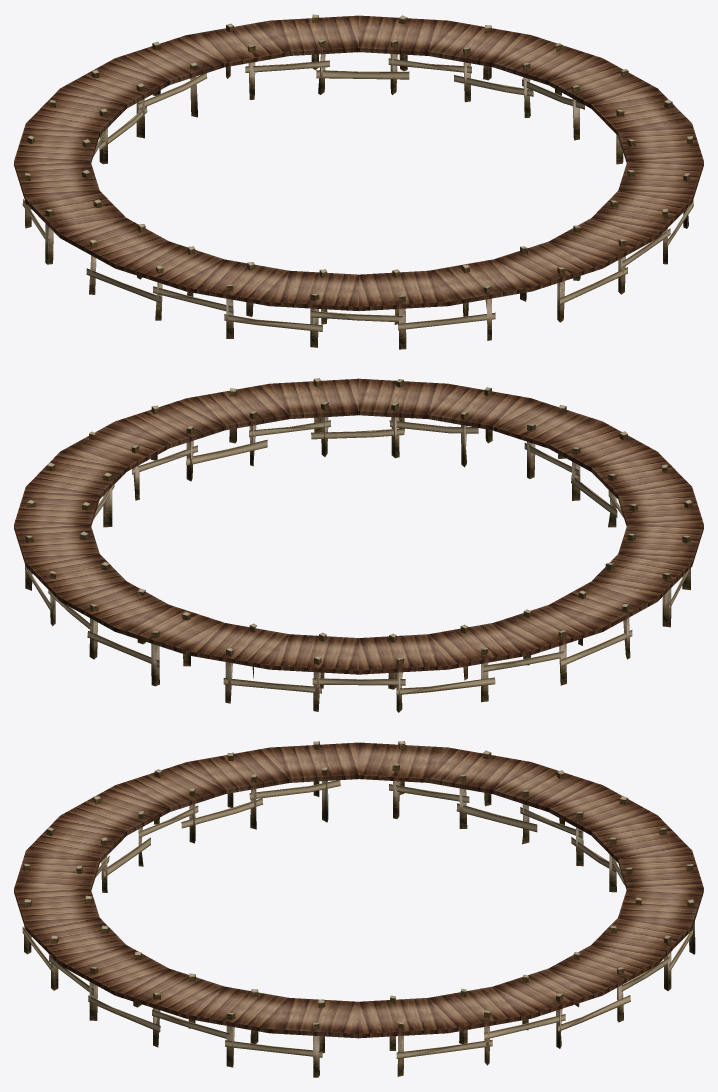
Rendered from platform2_circle_LOD1.fbx.
The picture shows the model from 3 angles, top to bottom: view 1: azimuth 30°, elevation 25°; view 2: azimuth 150°, elevation 25°; view 3: azimuth 270°, elevation 25°; orthographic projection.
Visible parts, largest first — view 1: Default_Layer; view 2: Default_Layer; view 3: Default_Layer.
Boxes of the visible parts, x1,y1,x2,y2 form: Default_Layer: (14,14,703,349); Default_Layer: (14,378,703,712); Default_Layer: (14,741,703,1077).
Bounding box in the file's own units: 900 × 76.45 × 900.
